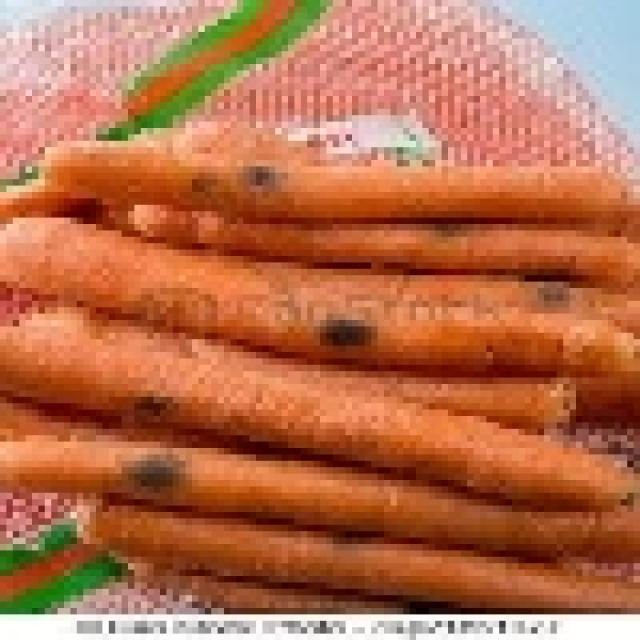Stale_Carrot: (0, 314, 640, 501), (8, 225, 624, 365), (3, 430, 640, 559), (51, 139, 640, 232), (406, 267, 639, 337)
